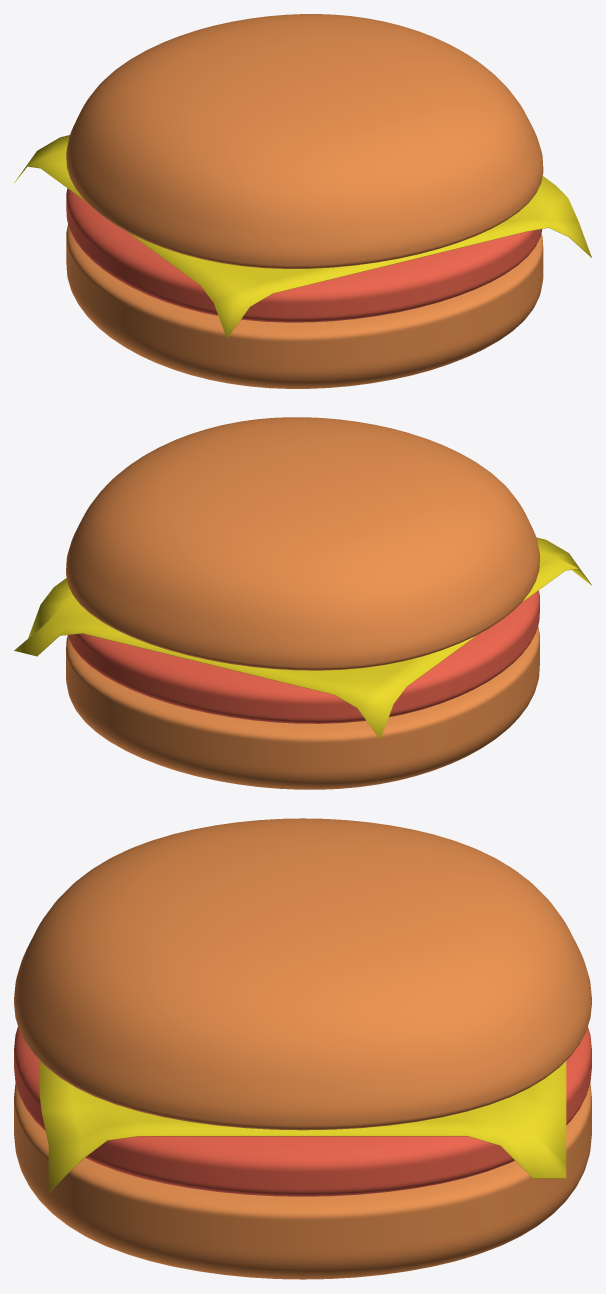
Rendered from hamburger.glb.
3 renders of one model, top to bottom at view 1: azimuth 30°, elevation 25°; view 2: azimuth 150°, elevation 25°; view 3: azimuth 270°, elevation 25°, orthographic. The views are drawn at different scales.
Visible parts, largest first — view 1: Cube.002, Cube, Cube.001, Plane; view 2: Cube.002, Cube, Cube.001, Plane; view 3: Cube.002, Cube, Cube.001, Plane.
Part boxes in pixels (x1,y1,x2,y2): Cube.002: (66, 14, 543, 268); Cube: (66, 224, 543, 388); Cube.001: (66, 188, 542, 322); Plane: (14, 135, 591, 338); Cube.002: (66, 417, 539, 670); Cube: (66, 626, 539, 789); Cube.001: (68, 590, 539, 723); Plane: (14, 537, 591, 739); Cube.002: (14, 818, 591, 1130); Cube: (14, 1083, 591, 1279); Cube.001: (14, 1027, 591, 1196); Plane: (39, 1061, 566, 1192).
Bounding box in the file's own units: 9.16 × 5.51 × 9.16.
